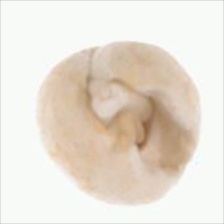L3: (84, 76, 153, 149)
L4: (37, 42, 202, 204)
